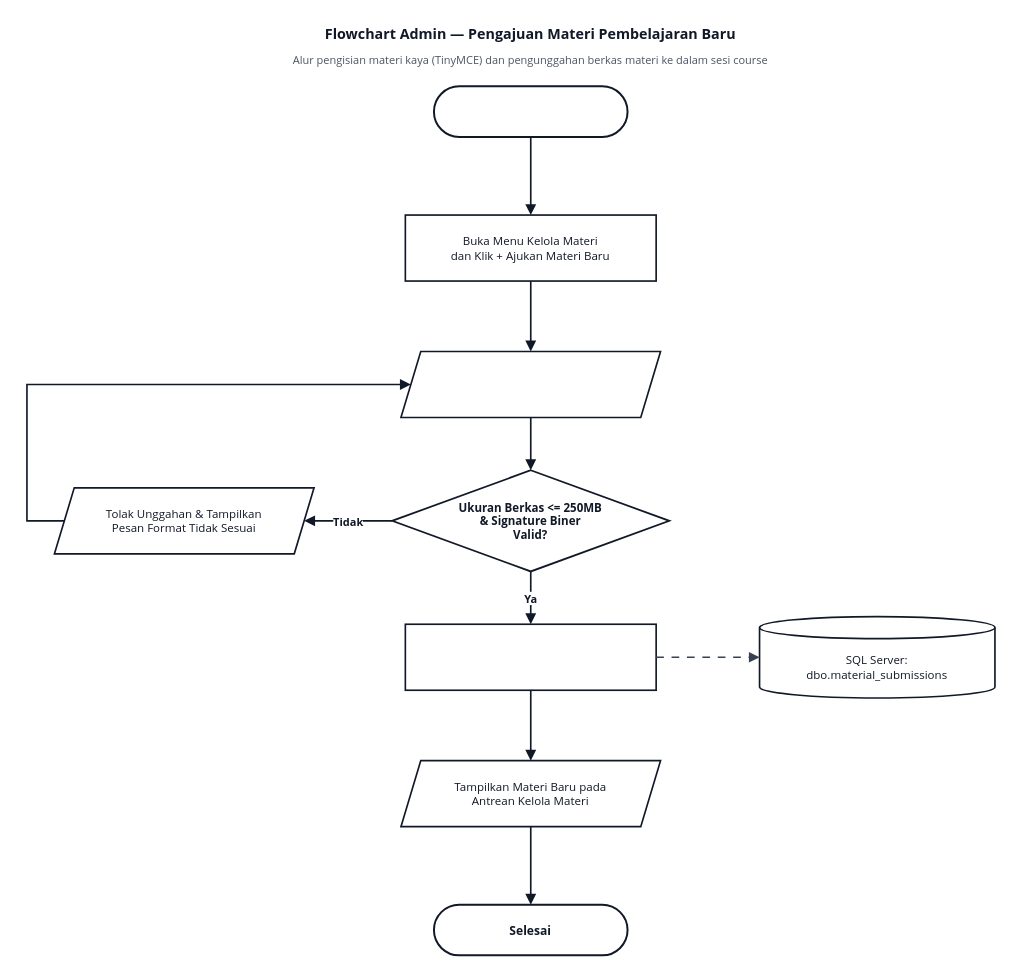
This 1015x975 diagram has some shape labels left out. Each missing label, with the centre of its shape:
"Mulai" belongs at pixel 530 111.
"Pilih Course & Sesi, Isi Judul, Konten Materi & Unggah Berkas" belongs at pixel 530 384.
"Simpan Berkas Materi & Catat Status Pengajuan Materi" belongs at pixel 530 657.
